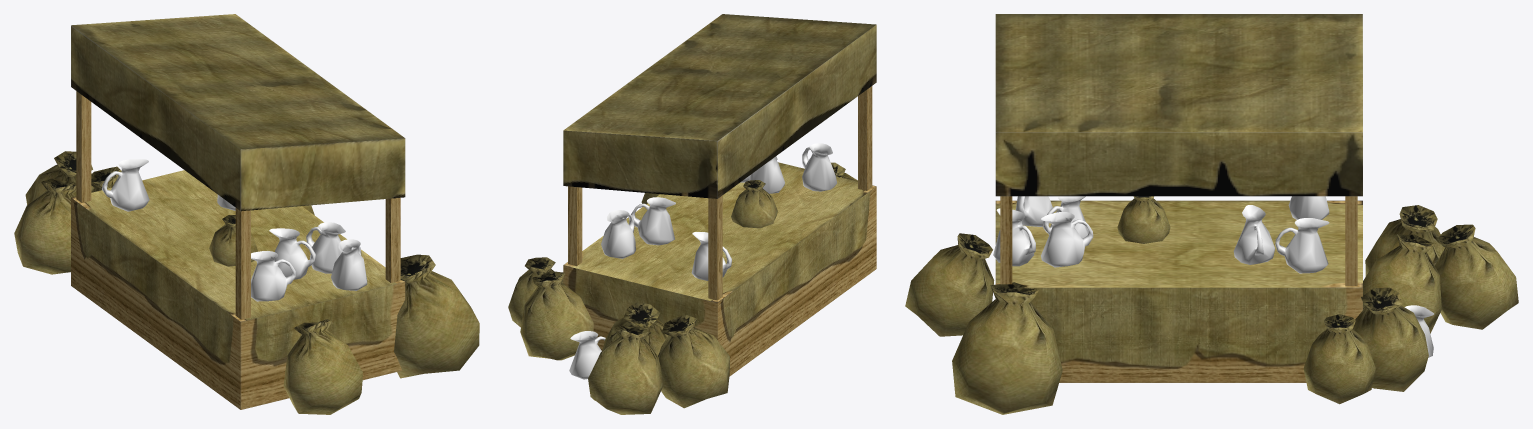
File: store10_2.fbx
The picture shows the model from 3 angles, left to right: view 1: azimuth 30°, elevation 25°; view 2: azimuth 150°, elevation 25°; view 3: azimuth 270°, elevation 25°; orthographic projection. The views are drawn at different scales.
Visible parts, largest first — view 1: stand_19, bag_161, bag_168, bag_166, pot_35, pot_37, pot_40, pot_33, pot_36, bag_165, bag_163, bag_167; view 2: stand_19, bag_163, bag_166, bag_162, bag_165, pot_39, bag_167, pot_38, pot_37, bag_164, pot_34, pot_35 (+1 smaller); view 3: stand_19, bag_161, bag_163, bag_168, bag_162, bag_164, bag_167, bag_166, pot_36, pot_38, bag_165, pot_39 (+4 smaller).
Part boxes in pixels (left/top/right/bottom): stand_19: left=71, top=14, right=405, bottom=409; bag_161: left=394, top=254, right=479, bottom=378; bag_168: left=283, top=319, right=362, bottom=414; bag_166: left=14, top=178, right=76, bottom=274; pot_35: left=102, top=159, right=149, bottom=211; pot_37: left=251, top=251, right=295, bottom=301; pot_40: left=331, top=239, right=367, bottom=290; pot_33: left=269, top=228, right=315, bottom=279; pot_36: left=306, top=222, right=345, bottom=273; bag_165: left=209, top=215, right=257, bottom=266; bag_163: left=25, top=151, right=92, bottom=204; bag_167: left=91, top=166, right=121, bottom=192; stand_19: left=563, top=14, right=876, bottom=376; bag_163: left=588, top=325, right=663, bottom=414; bag_166: left=658, top=315, right=729, bottom=408; bag_162: left=520, top=271, right=593, bottom=360; bag_165: left=731, top=180, right=777, bottom=228; pot_39: left=631, top=197, right=675, bottom=245; bag_167: left=602, top=302, right=667, bottom=355; pot_38: left=601, top=210, right=635, bottom=258; pot_37: left=802, top=143, right=836, bottom=191; bag_164: left=508, top=257, right=563, bottom=327; pot_34: left=569, top=331, right=605, bottom=379; pot_35: left=691, top=232, right=731, bottom=280; stand_19: left=995, top=14, right=1362, bottom=382; bag_161: left=952, top=282, right=1062, bottom=414; bag_163: left=1435, top=224, right=1518, bottom=329; bag_168: left=905, top=233, right=994, bottom=336; bag_162: left=1353, top=287, right=1428, bottom=391; bag_164: left=1303, top=314, right=1375, bottom=404; bag_167: left=1363, top=234, right=1441, bottom=333; bag_166: left=1365, top=205, right=1445, bottom=276; pot_36: left=1041, top=212, right=1093, bottom=267; pot_38: left=1275, top=218, right=1329, bottom=273; bag_165: left=1117, top=196, right=1170, bottom=243; pot_39: left=1233, top=205, right=1275, bottom=264.
Size of the model in its own units: 59.85 by 58.02 by 110.
